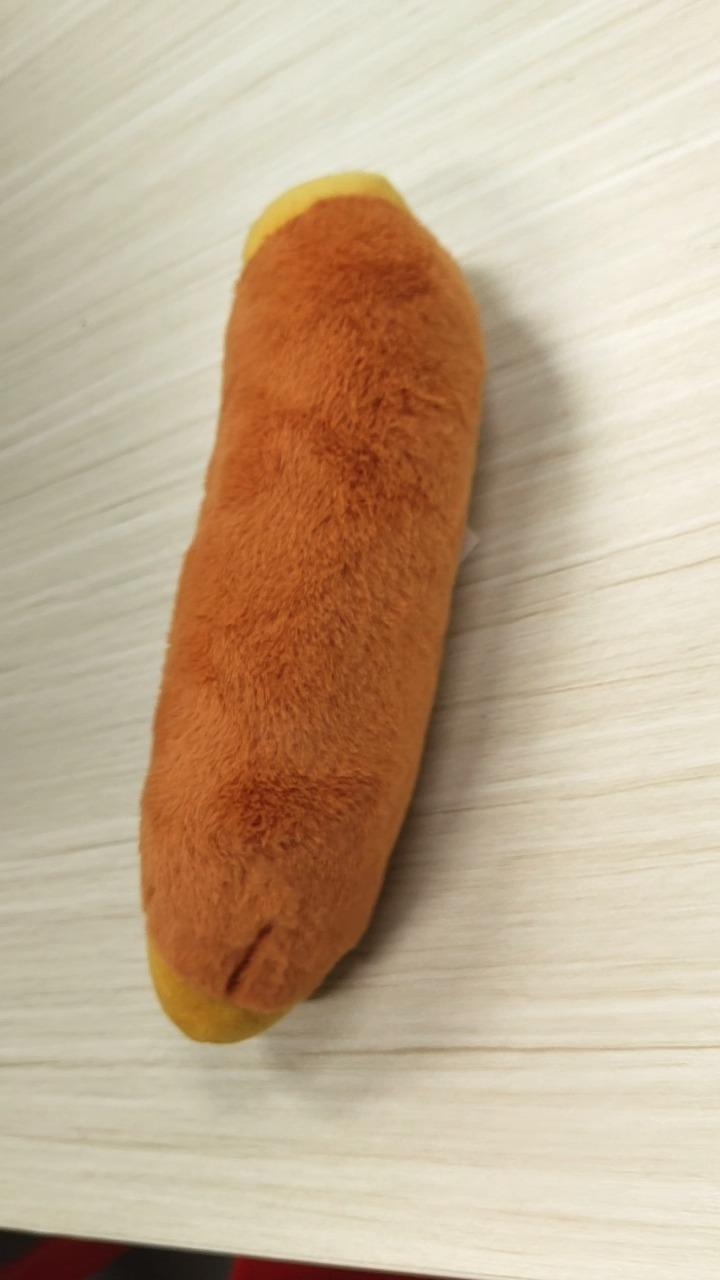hotdog: (137, 168, 487, 1044)
